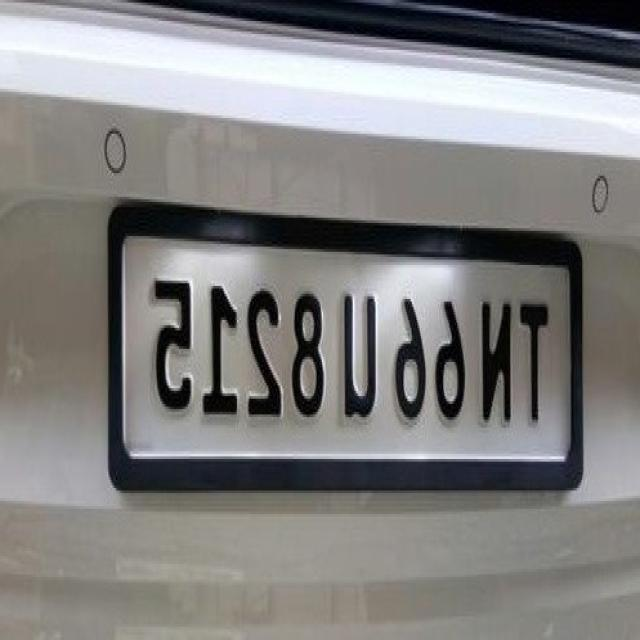number-plate: (118, 186, 580, 479)
